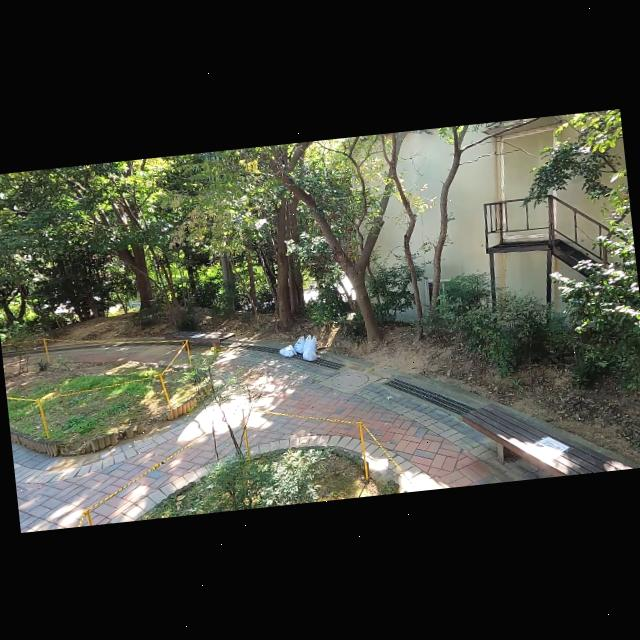trash: (276, 341, 298, 358), (298, 347, 321, 362), (300, 332, 317, 352), (291, 334, 306, 354)
